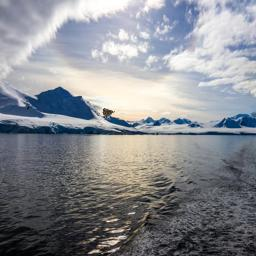Sparrow: (102, 108, 115, 120)
